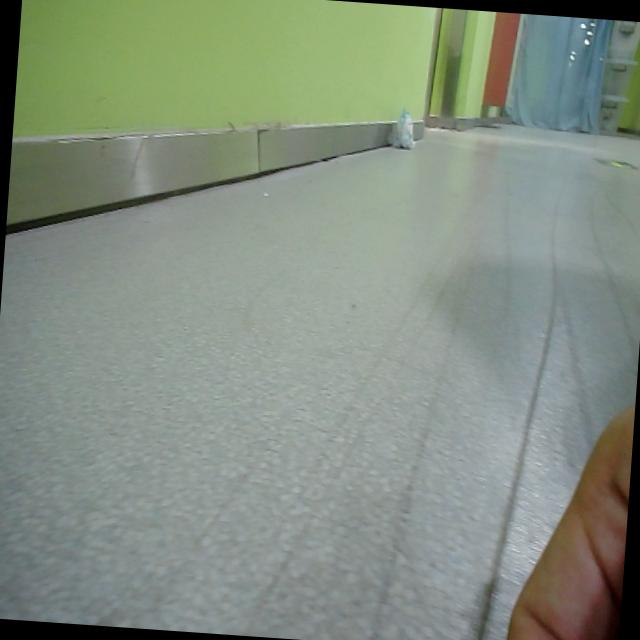xiaoba: (391, 102, 422, 152)
